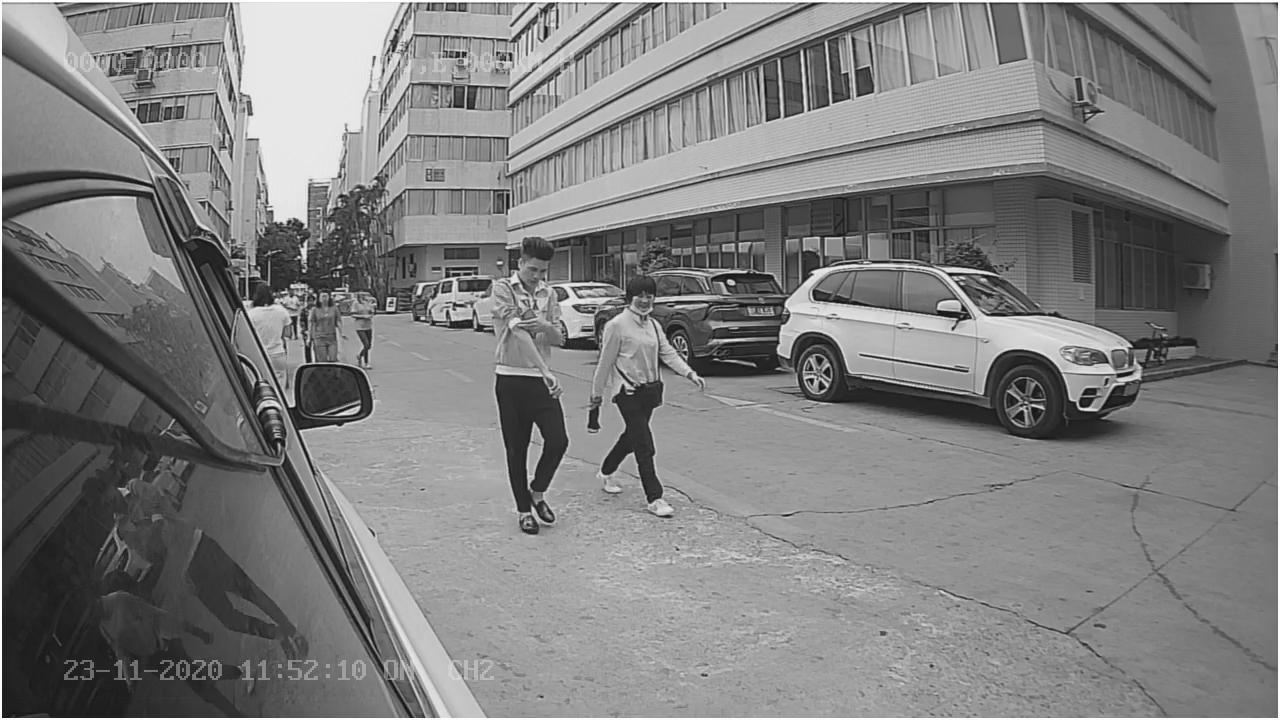person: (590, 274, 708, 523), (485, 235, 570, 531)
